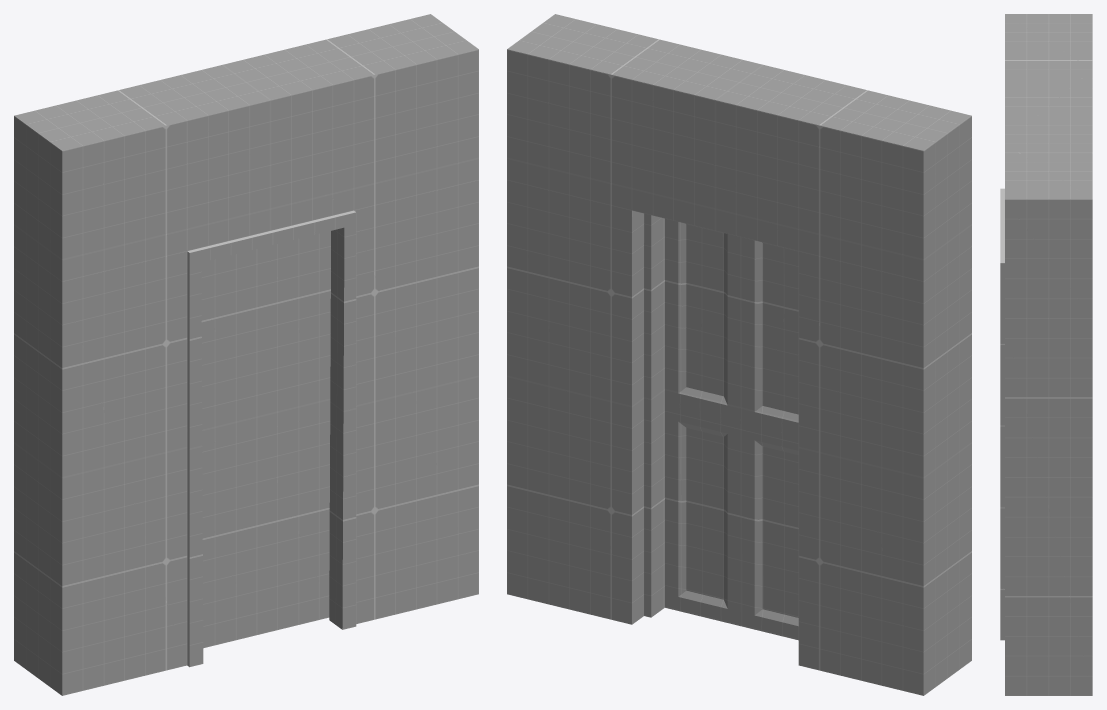
The model's file is Door_1x2.fbx.
3 renders of one model, left to right at view 1: azimuth 30°, elevation 25°; view 2: azimuth 150°, elevation 25°; view 3: azimuth 270°, elevation 25°, orthographic. The views are drawn at different scales.
Parts seen in each view (by area): view 1: Door_1x2; view 2: Door_1x2; view 3: Door_1x2.
Part boxes in pixels (<box>): Door_1x2: <box>14,14,478,695</box>; Door_1x2: <box>507,14,971,695</box>; Door_1x2: <box>1000,14,1092,695</box>.
Size of the model in its own units: 200 by 250 by 42.
